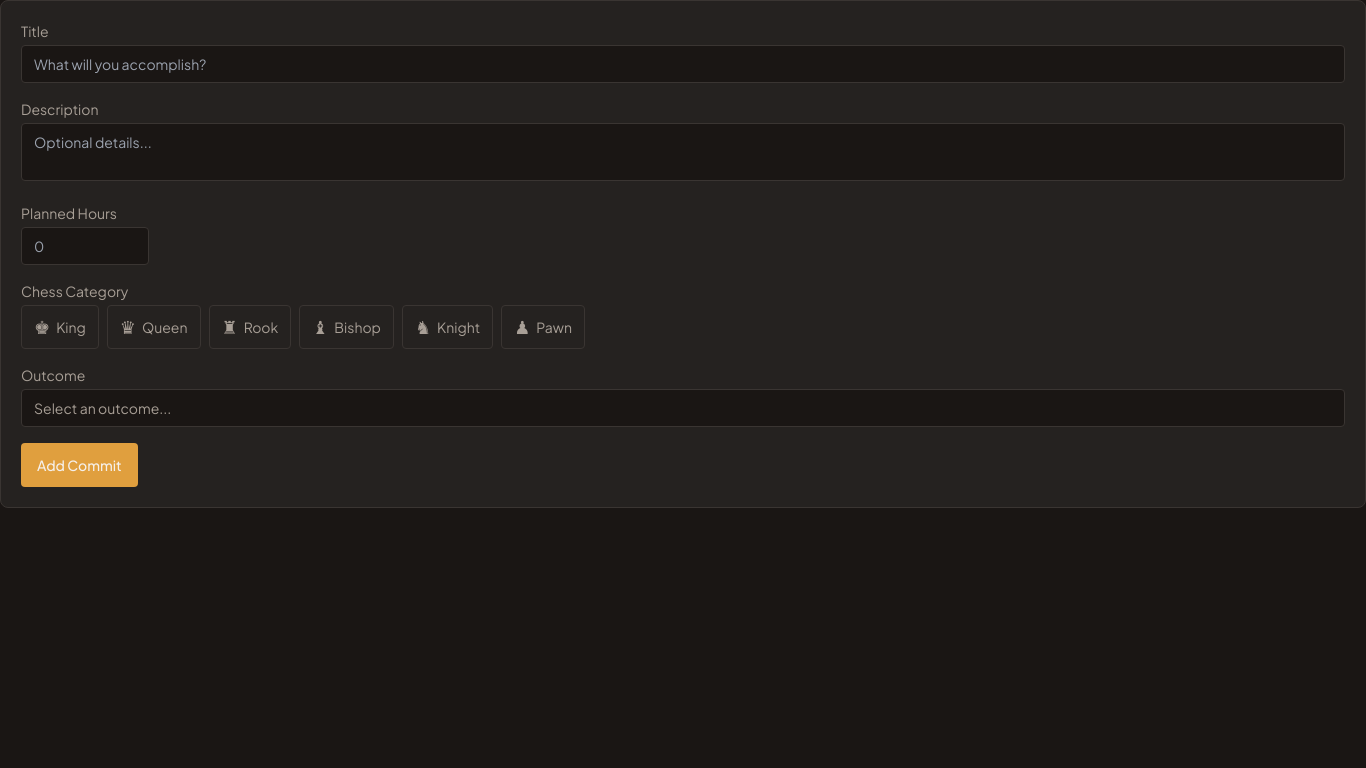
CommitForm › shows inline error when title is empty on submit
Click the button "Add Commit": x=79, y=465 [21,443,138,487]
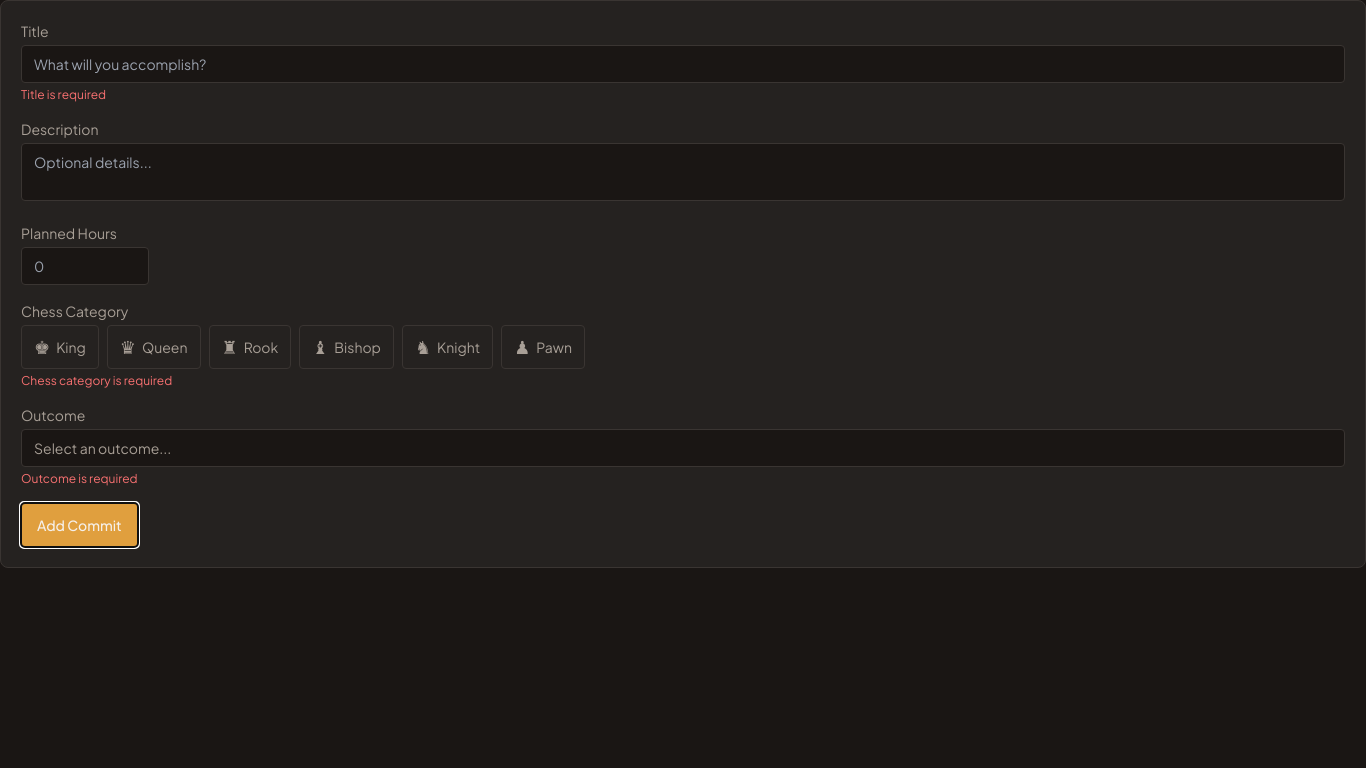
Now the text "Title is required" is shown, box [21,87,106,102]
